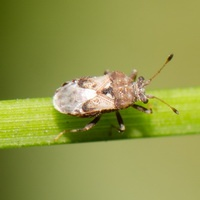insect: (53, 54, 178, 139)
